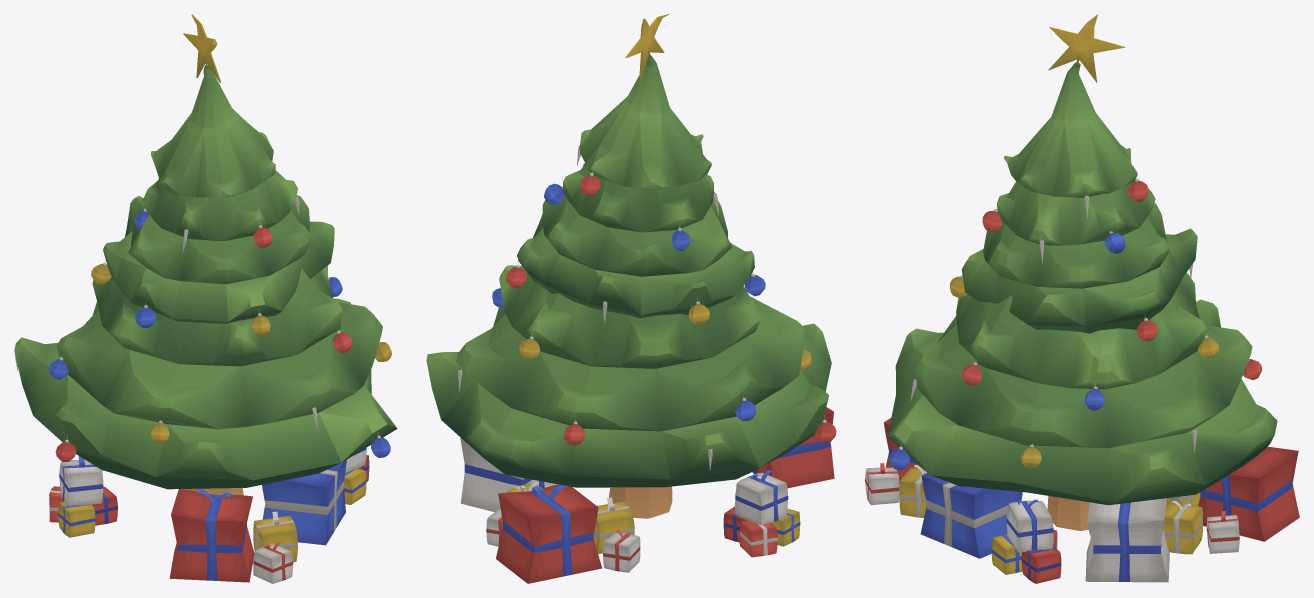
The model's file is xmas.glb.
3 renders of one model, left to right at view 1: azimuth 30°, elevation 25°; view 2: azimuth 150°, elevation 25°; view 3: azimuth 270°, elevation 25°, orthographic. The views are drawn at different scales.
Visible parts, largest first — view 1: Base leaves, Base leaves.001, Top, Present.005, Present.014, Present.009, Present.003, Present.004, Present.007, Star, Present.012, Present.008; view 2: Base leaves, Base leaves.001, Top, Present, Present.005, Present.015, Present.009, Trunk, Present.002, Present.001, Present.006, Star (+1 smaller); view 3: Base leaves, Base leaves.001, Top, Present.015, Present, Present.014, Present.010, Present.016, Star, Present.004, Present.011, Present.017 (+3 smaller).
Boxes of the visible parts, <box> form: Base leaves: <box>14,264,397,489</box>; Base leaves.001: <box>103,170,334,323</box>; Top: <box>151,65,275,198</box>; Present.005: <box>169,489,254,582</box>; Present.014: <box>262,460,346,545</box>; Present.009: <box>59,456,103,505</box>; Present.003: <box>253,511,297,562</box>; Present.004: <box>253,542,293,583</box>; Present.007: <box>58,502,95,537</box>; Star: <box>183,14,221,82</box>; Present.012: <box>344,468,366,504</box>; Present.008: <box>92,486,117,525</box>; Base leaves: <box>426,265,831,487</box>; Base leaves.001: <box>517,166,754,318</box>; Top: <box>580,55,711,190</box>; Present: <box>496,484,602,583</box>; Present.005: <box>752,407,834,488</box>; Present.015: <box>460,437,558,511</box>; Present.009: <box>735,470,788,525</box>; Trunk: <box>609,486,672,518</box>; Present.002: <box>593,497,634,553</box>; Present.001: <box>603,530,640,572</box>; Present.006: <box>739,520,777,557</box>; Star: <box>625,14,669,83</box>; Base leaves: <box>887,272,1277,505</box>; Base leaves.001: <box>961,181,1197,333</box>; Top: <box>1004,62,1137,197</box>; Present.015: <box>1085,498,1169,582</box>; Present: <box>1198,446,1299,541</box>; Present.014: <box>920,472,1022,558</box>; Present.010: <box>1006,499,1053,552</box>; Present.016: <box>1163,500,1202,554</box>; Star: <box>1048,14,1125,82</box>; Present.004: <box>865,463,899,505</box>; Present.011: <box>1021,546,1061,583</box>; Present.017: <box>1206,511,1239,553</box>.
Bounding box in the file's own units: 12.13 × 16.23 × 12.88.
26 materials, 26 textured.
